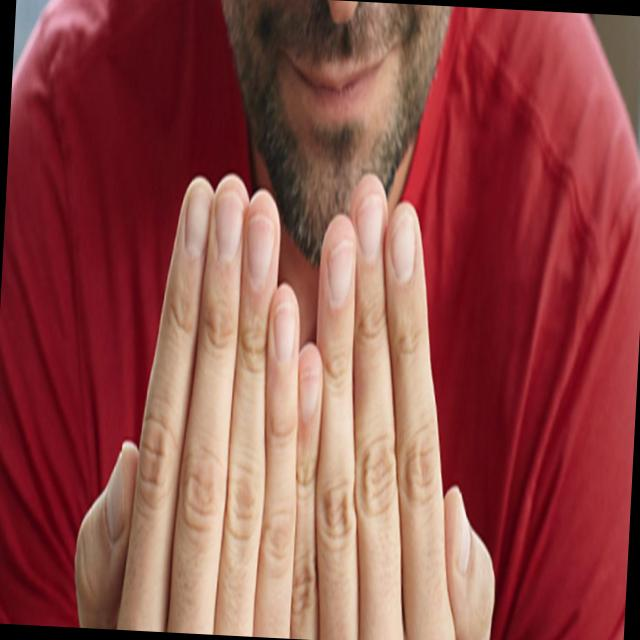Nail: (215, 192, 245, 260), (185, 187, 213, 258), (248, 215, 276, 285), (390, 213, 415, 285), (106, 451, 125, 544), (356, 195, 383, 259), (328, 241, 355, 304), (453, 492, 470, 577), (274, 302, 296, 364), (299, 369, 320, 421)
